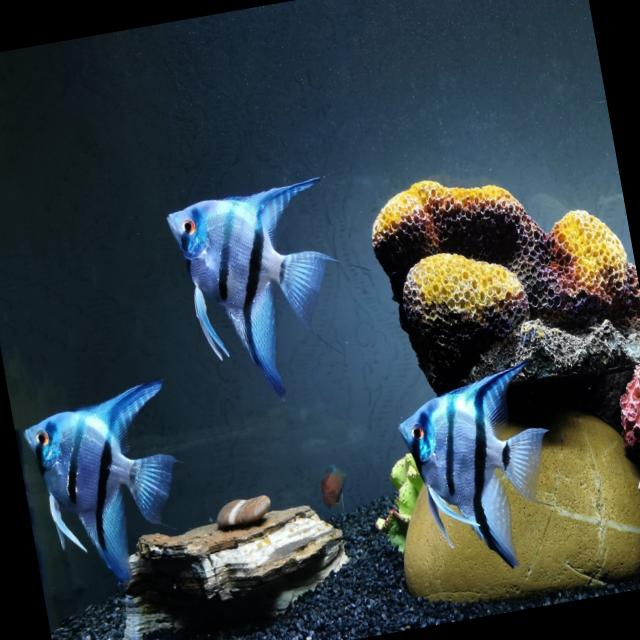AngelFish: (162, 172, 357, 400), (16, 379, 196, 594), (394, 360, 570, 579)
